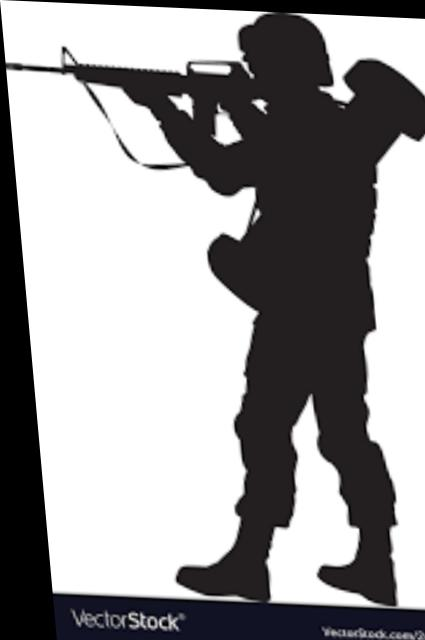other: (205, 9, 394, 590)
